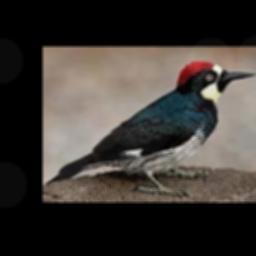Woodpecker: (45, 60, 256, 194)
